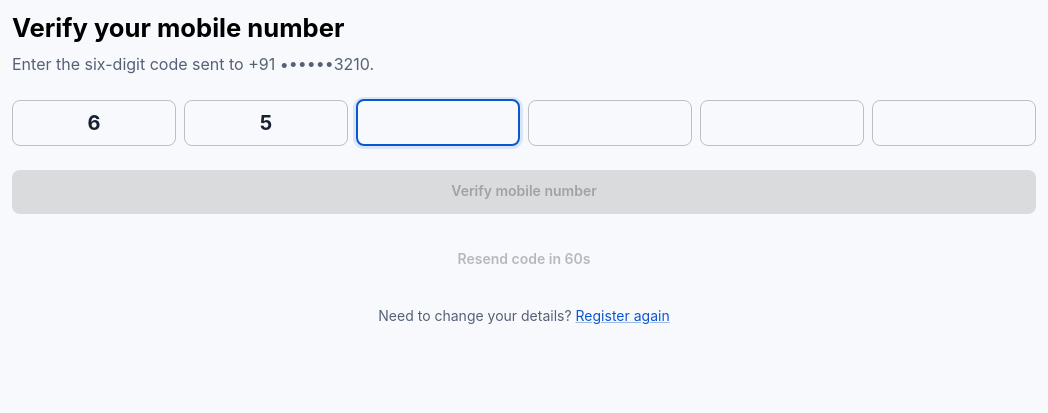
Test: mobile authentication pages › handles invalid OTP and rate-limited registration resend safely
The image size is (1048, 413).
Earlier steps of the test are not shown.
In the field named "OTP digit 3 of 6": (438, 123) [356,100,520,146], type "4"
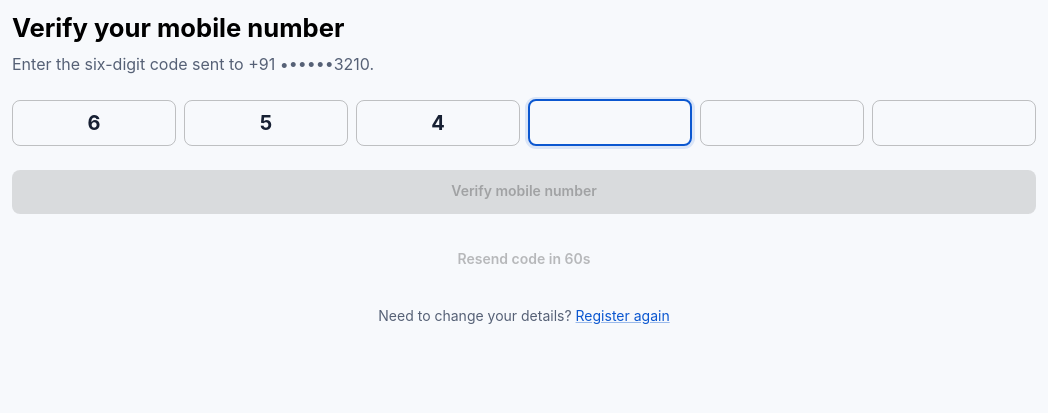
In the field named "OTP digit 4 of 6": (610, 123) [528,100,692,146], type "3"
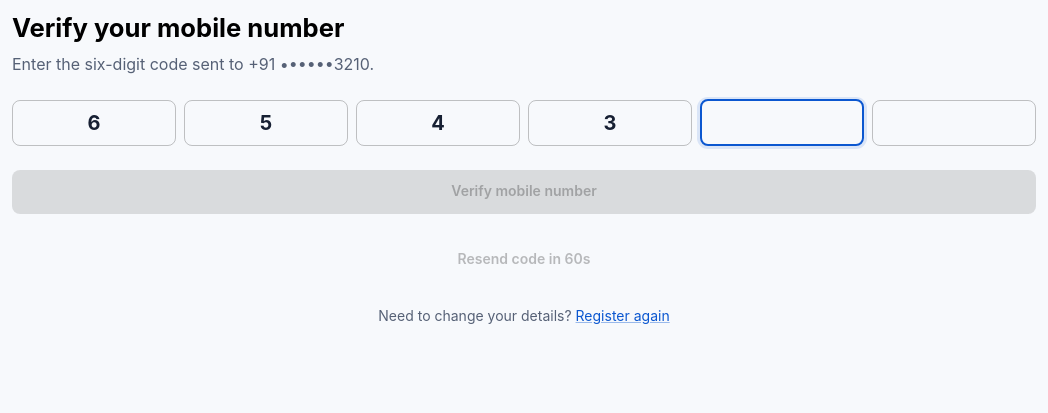
In the field named "OTP digit 5 of 6": (782, 123) [700,100,864,146], type "2"
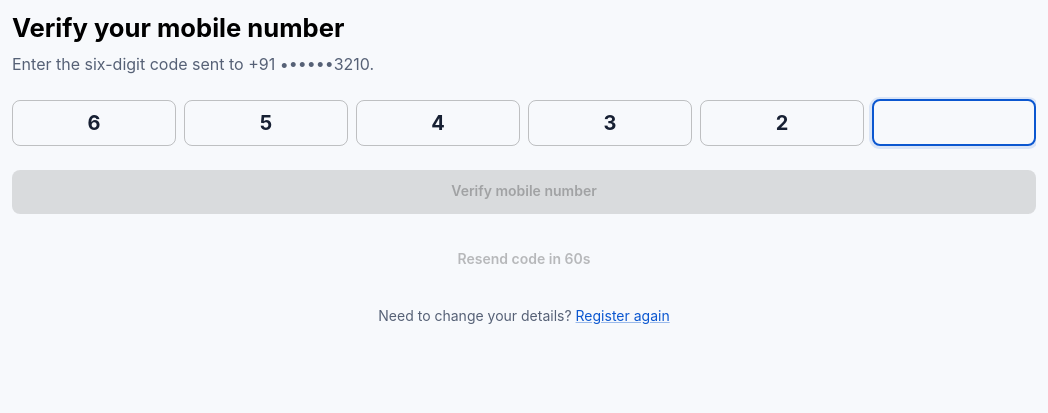
In the field named "OTP digit 6 of 6": (954, 123) [872,100,1036,146], type "1"
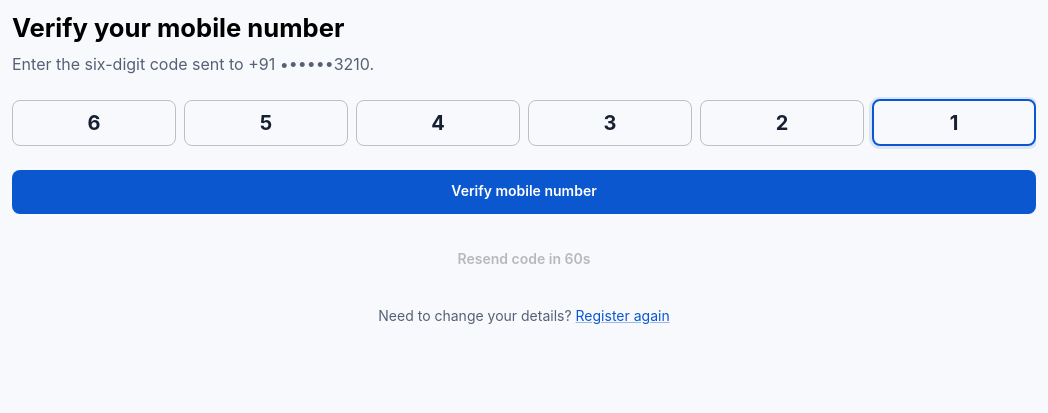
Click the button "Verify mobile number": (524, 192) [12,170,1036,214]
Wait 60000 ms
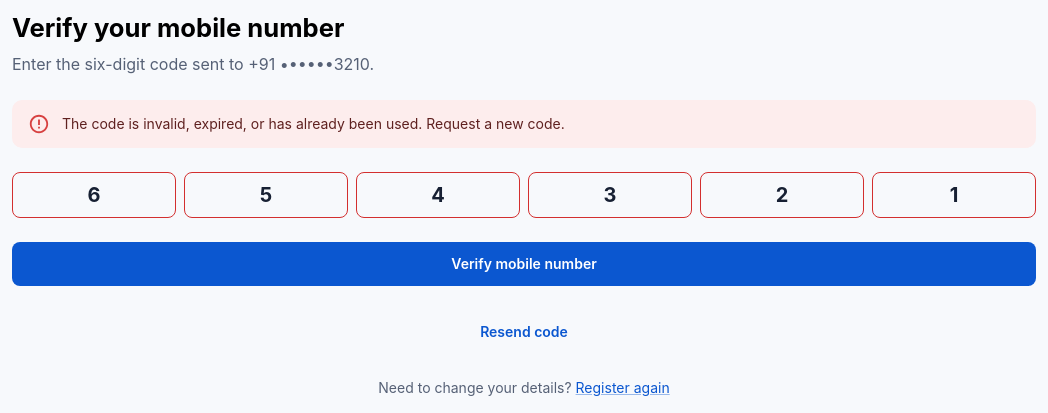
Now the text "invalid, expired, or has already been used" is shown, box [62,115,565,132]
Click the button "Resend code": (524, 332) [12,310,1036,354]
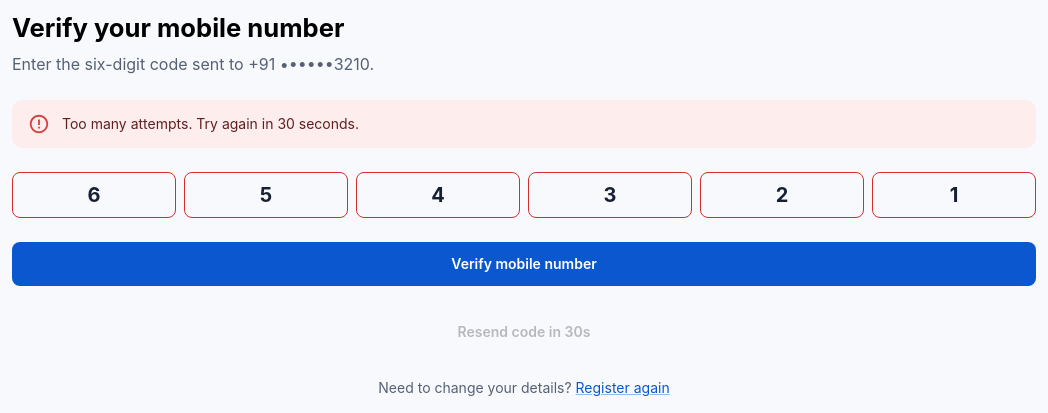
Now the text "Too many attempts. Try again in 30 seconds." is shown, box [62,115,359,132]
